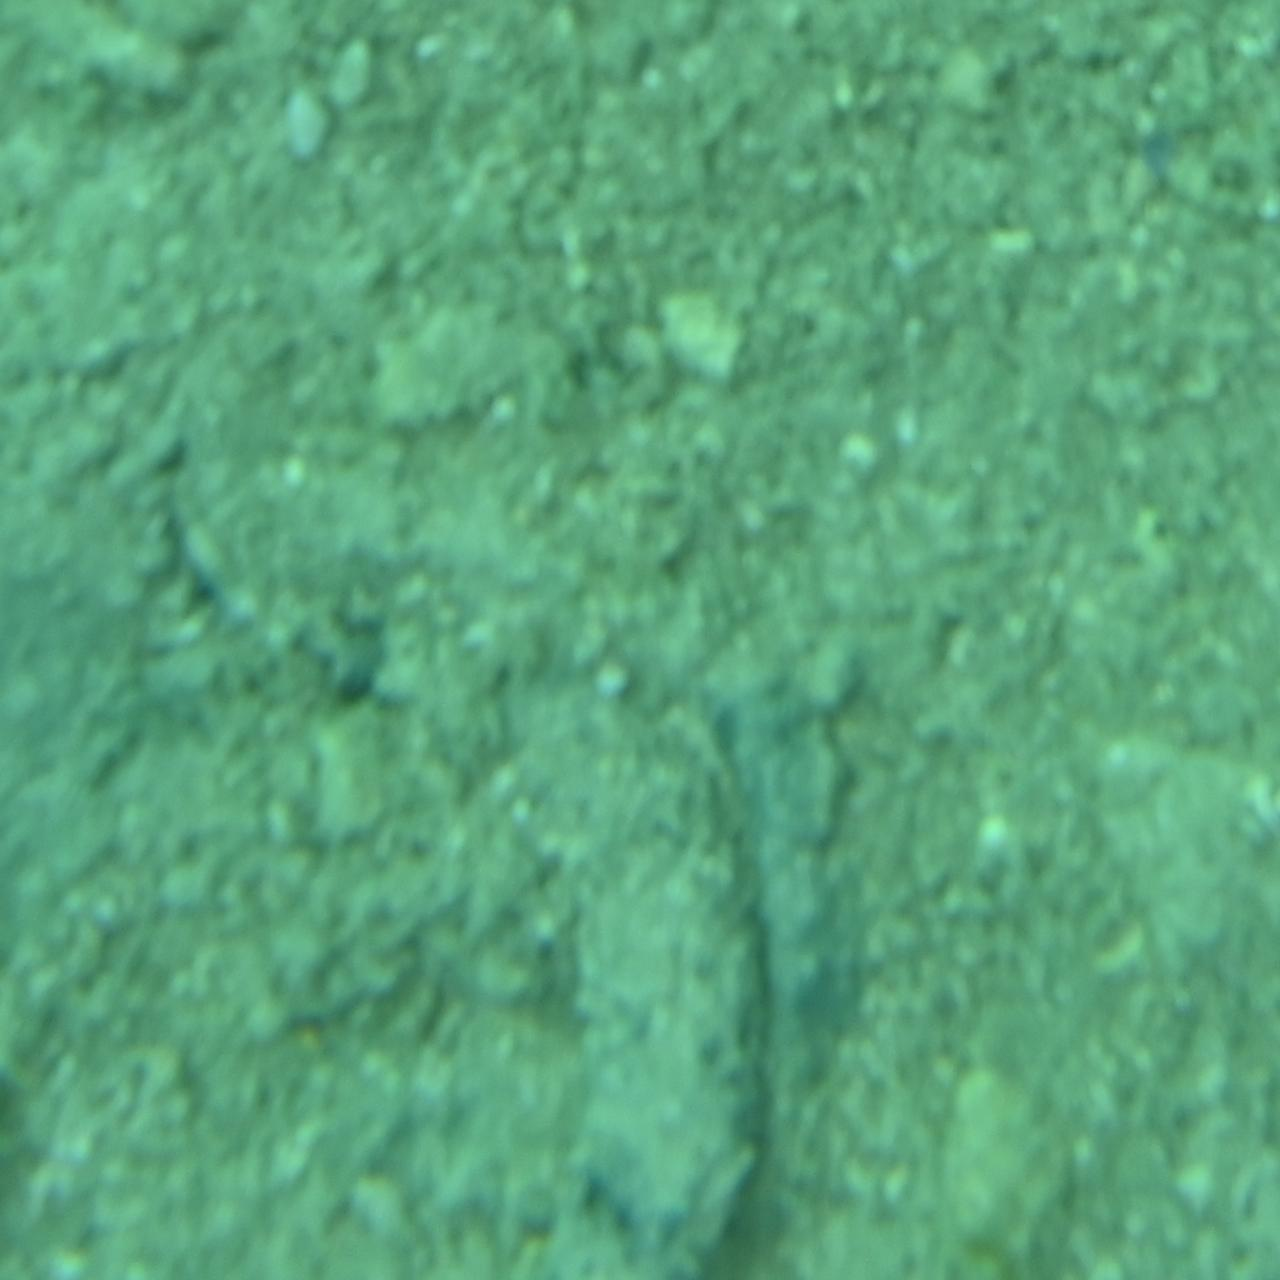Holothuria tubulosa: (489, 712, 791, 1249)
